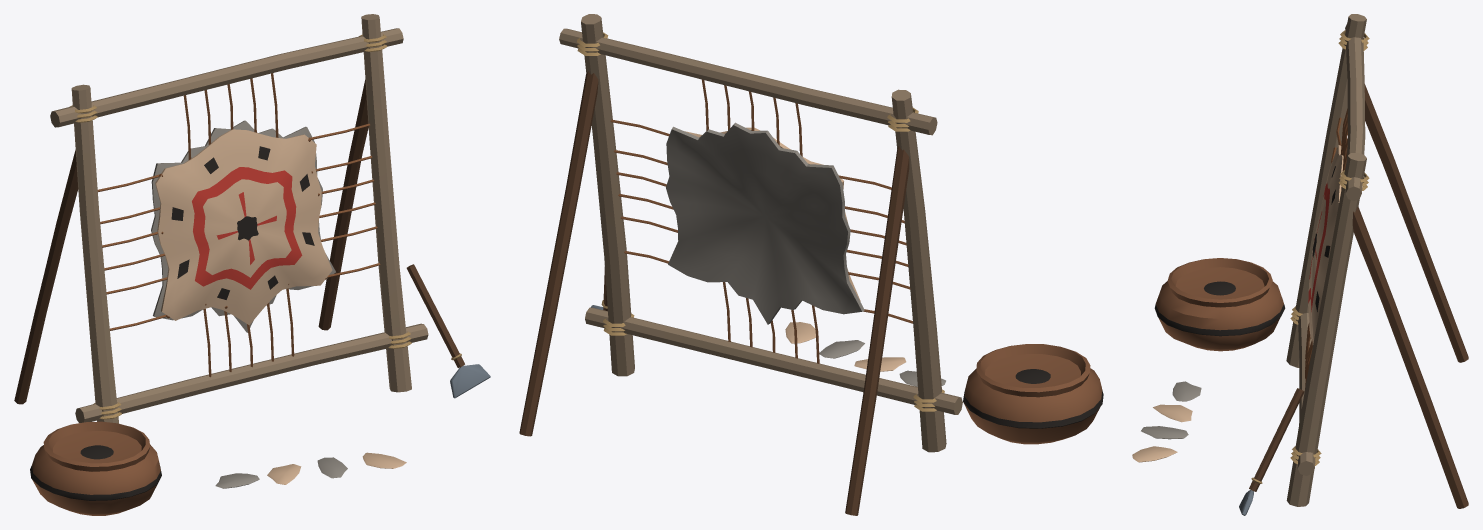
Rendered from deco_hide_frame.fbx.
The picture shows the model from 3 angles, left to right: view 1: azimuth 30°, elevation 25°; view 2: azimuth 150°, elevation 25°; view 3: azimuth 270°, elevation 25°; orthographic projection. The views are drawn at different scales.
Parts seen in each view (by area): view 1: HideFrame_Frame, HideFrame_Hide, HideFrame_Scraps, HideFrame_Lashing, HideFrame_Scraper; view 2: HideFrame_Frame, HideFrame_Hide, HideFrame_Scraps, HideFrame_Lashing; view 3: HideFrame_Frame, HideFrame_Scraps, HideFrame_Hide, HideFrame_Scraper, HideFrame_Lashing.
Part boxes in pixels (<box>): HideFrame_Frame: <box>14,14,428,423</box>; HideFrame_Hide: <box>151,120,335,332</box>; HideFrame_Scraps: <box>30,421,406,515</box>; HideFrame_Lashing: <box>97,73,380,377</box>; HideFrame_Scraper: <box>406,264,490,398</box>; HideFrame_Frame: <box>519,14,962,515</box>; HideFrame_Hide: <box>666,122,864,324</box>; HideFrame_Scraps: <box>785,322,1103,444</box>; HideFrame_Lashing: <box>610,79,912,363</box>; HideFrame_Frame: <box>1286,14,1468,508</box>; HideFrame_Scraps: <box>1132,258,1285,462</box>; HideFrame_Hide: <box>1308,145,1347,344</box>; HideFrame_Scraper: <box>1239,388,1304,515</box>; HideFrame_Lashing: <box>1305,108,1347,388</box>.
Size of the model in its own units: 303 by 221 by 194.
